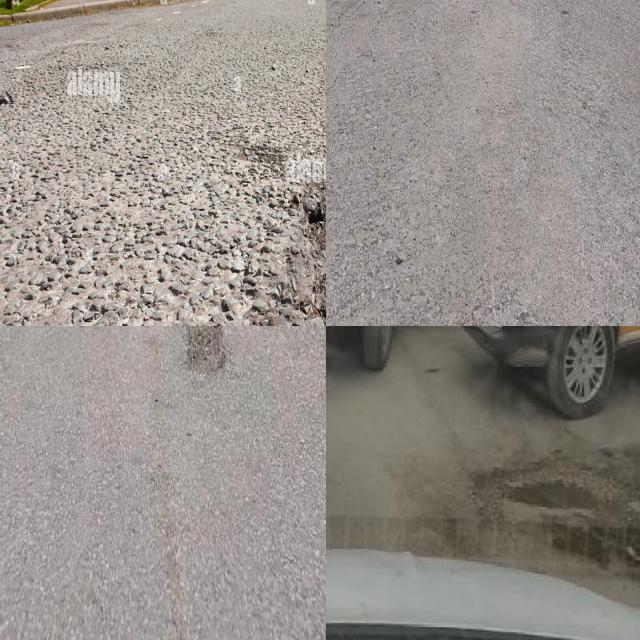Pothole: (483, 468, 627, 521), (185, 326, 228, 381)
